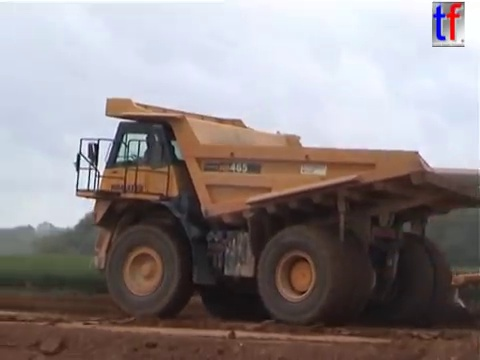truck: (71, 94, 480, 331)
